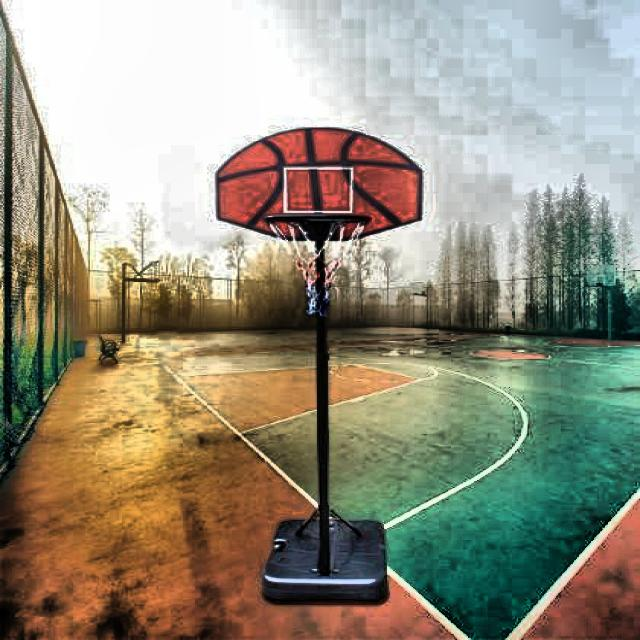rim: (265, 213, 373, 316)
